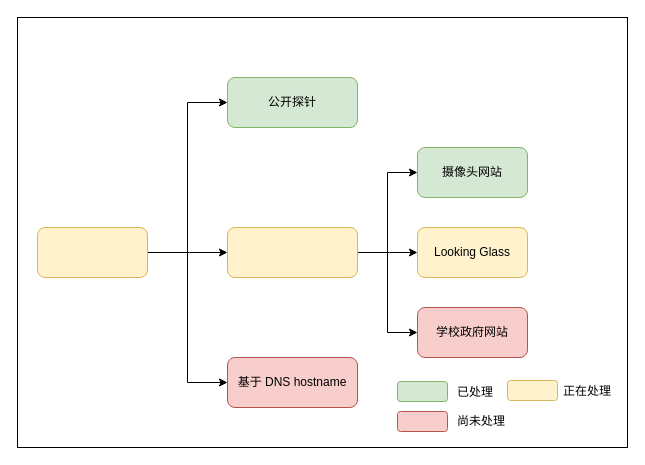
This 645x465 diagram has some shape labels left out. The shapes that lost their labels are listed below. From the top down, each one's centre as x and y in pixels, then its label:
At point (92, 252): "收集的地标".
At point (292, 252): "基于网页".
